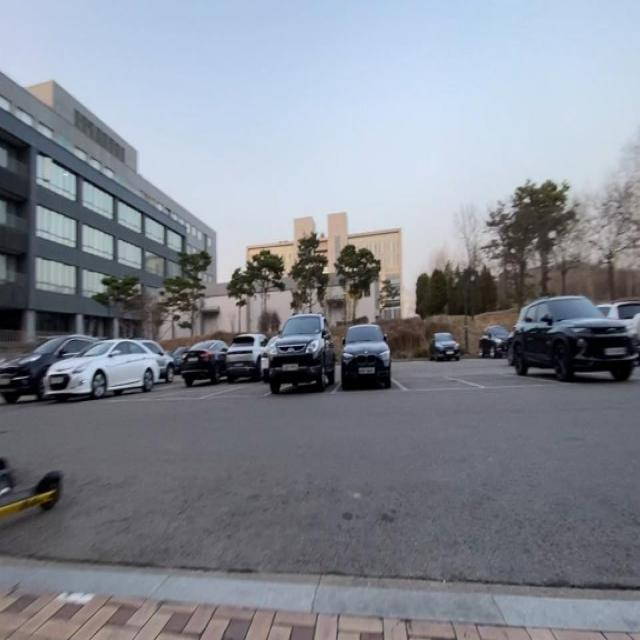sidewalk: (0, 562, 640, 640)
